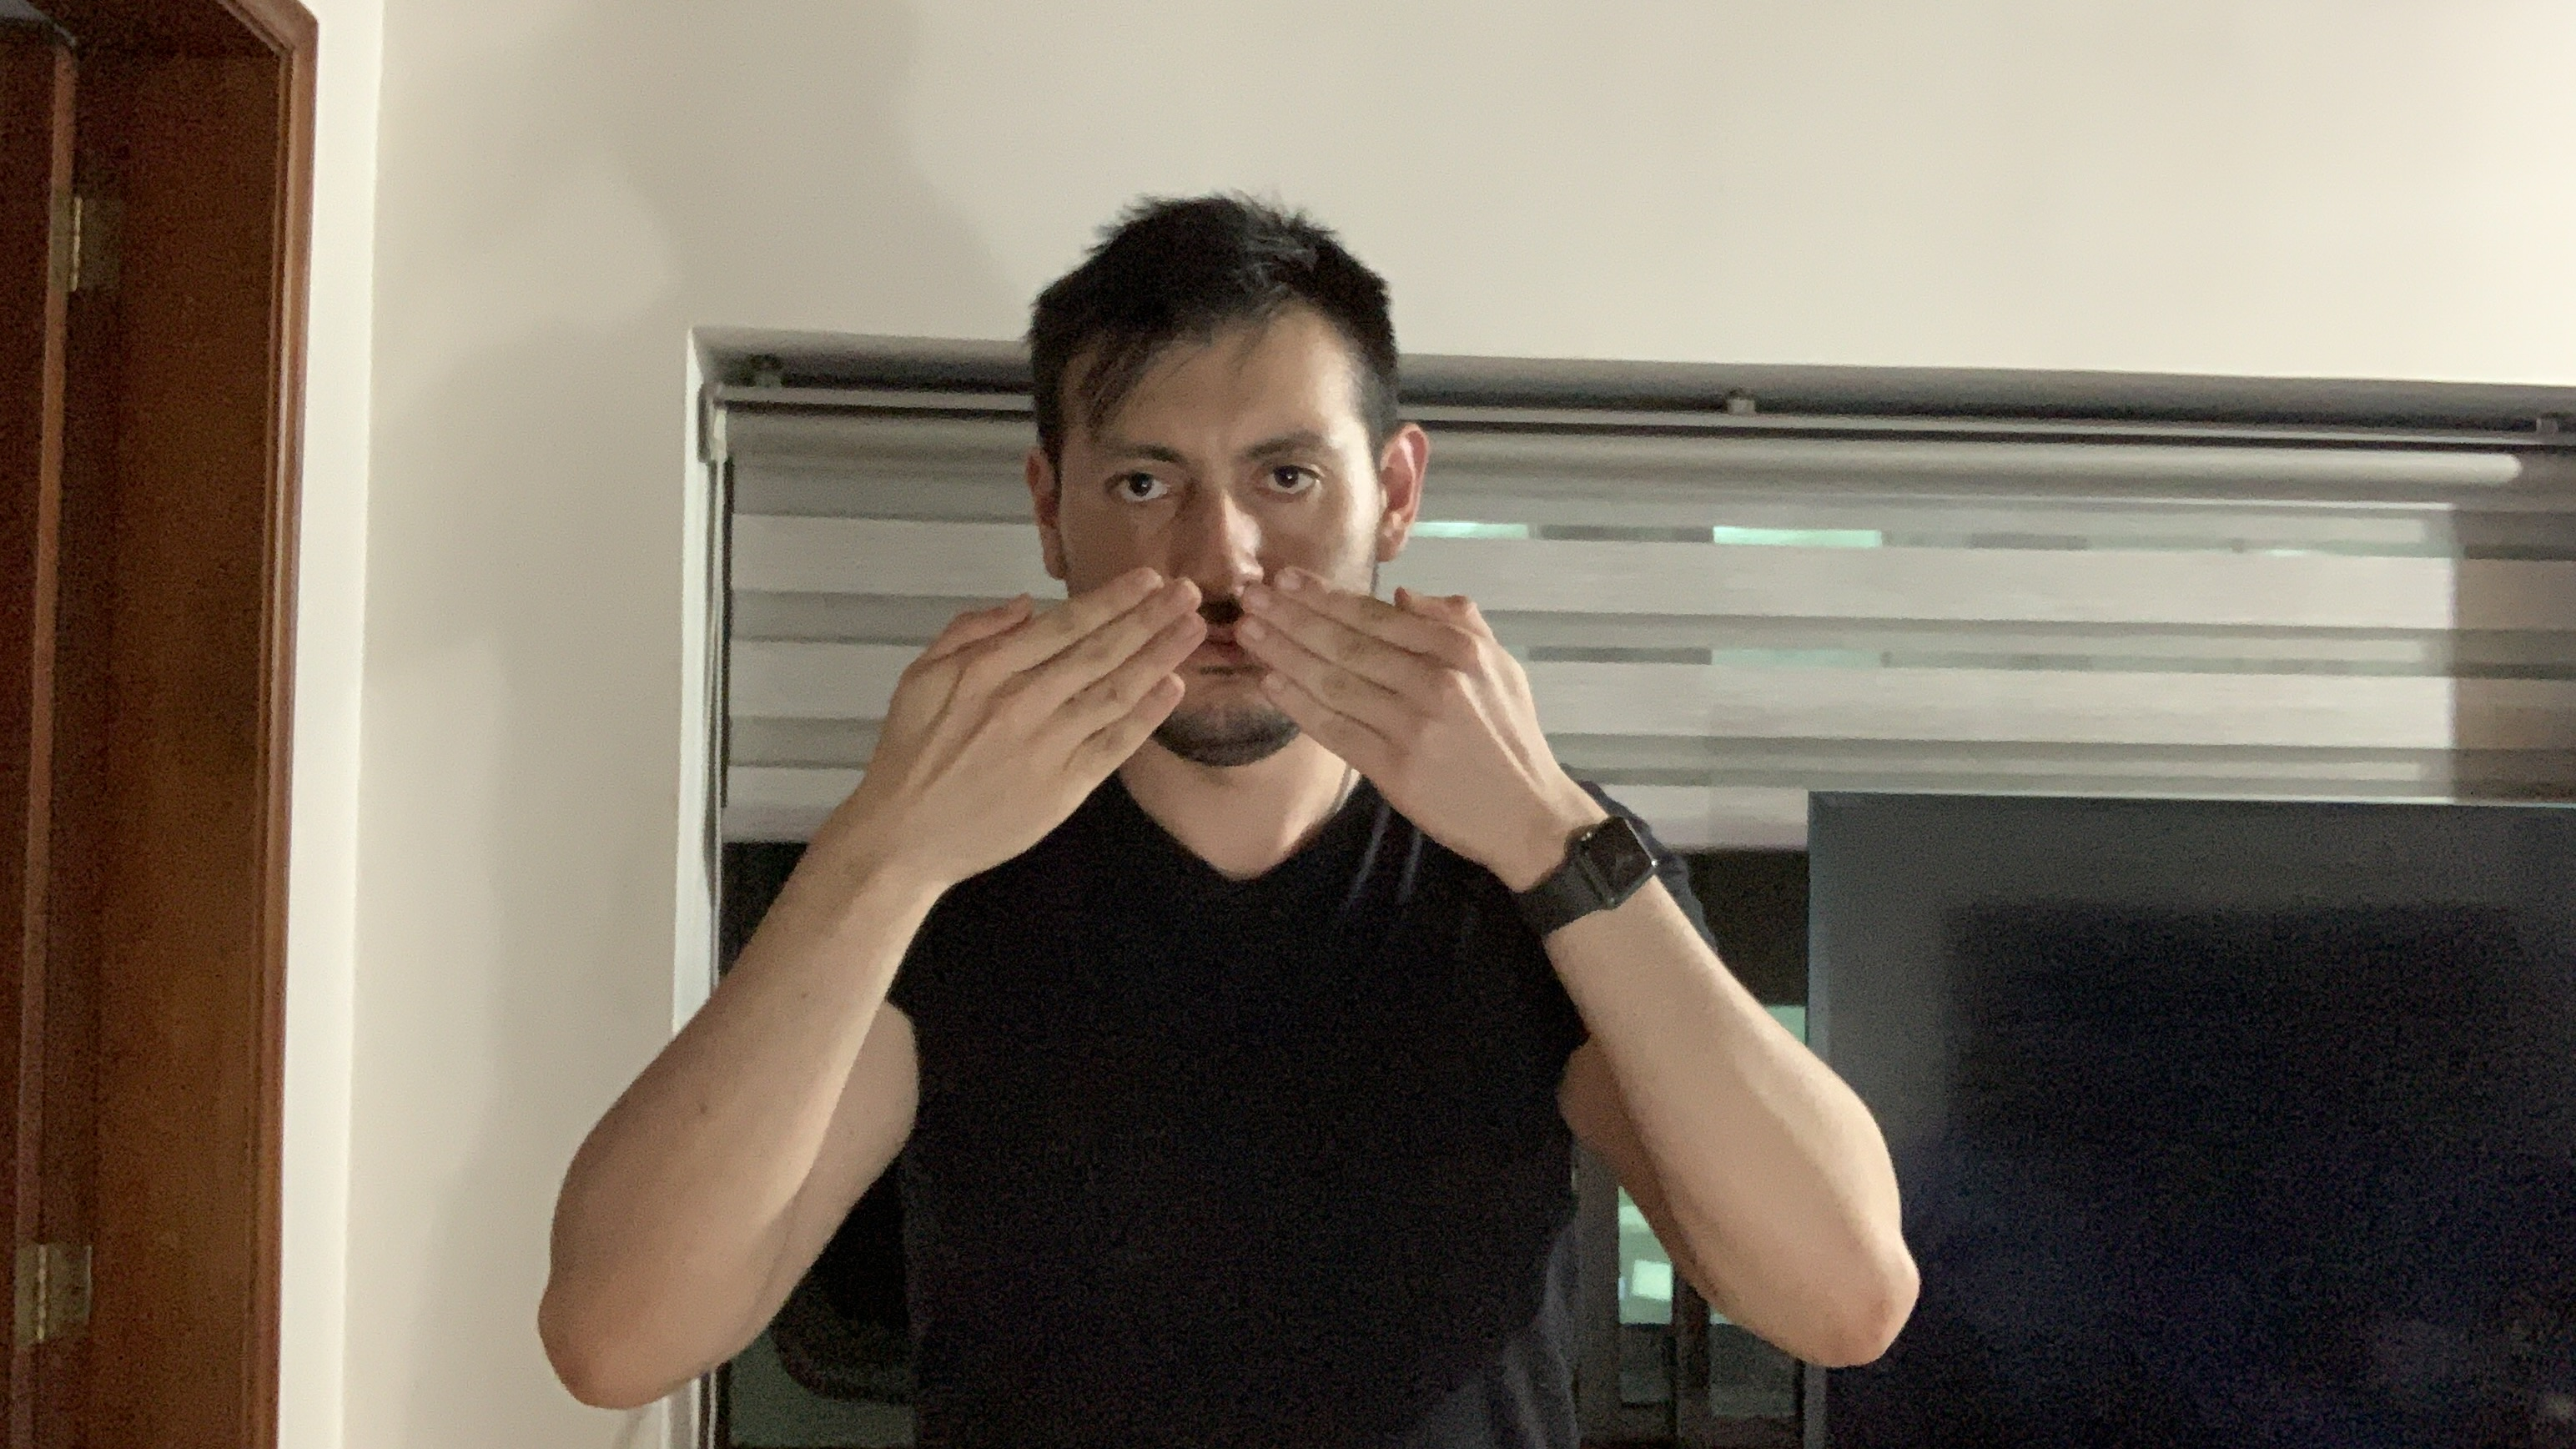Thank You: (863, 568, 1552, 867)
